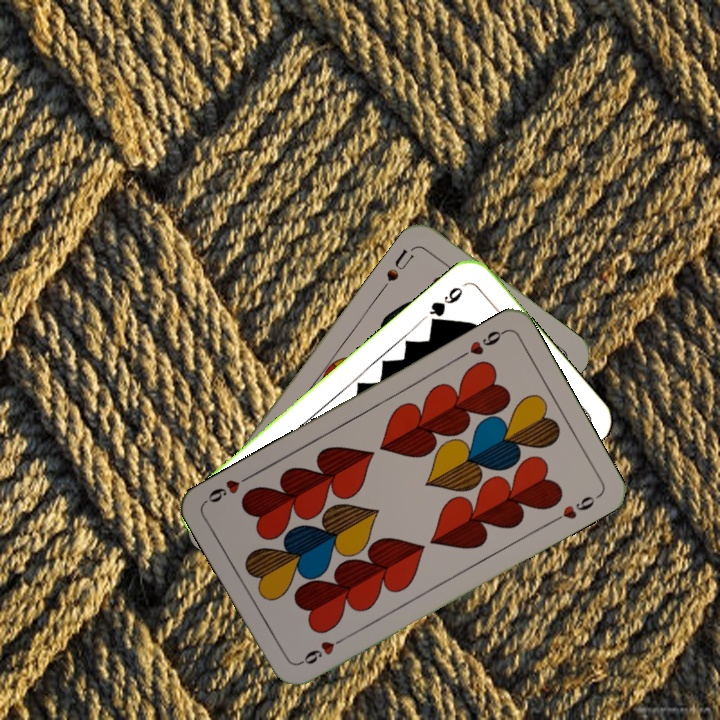G9: (425, 279, 469, 329)
H9: (454, 326, 509, 361), (295, 632, 349, 667)
SU: (382, 242, 420, 284)
